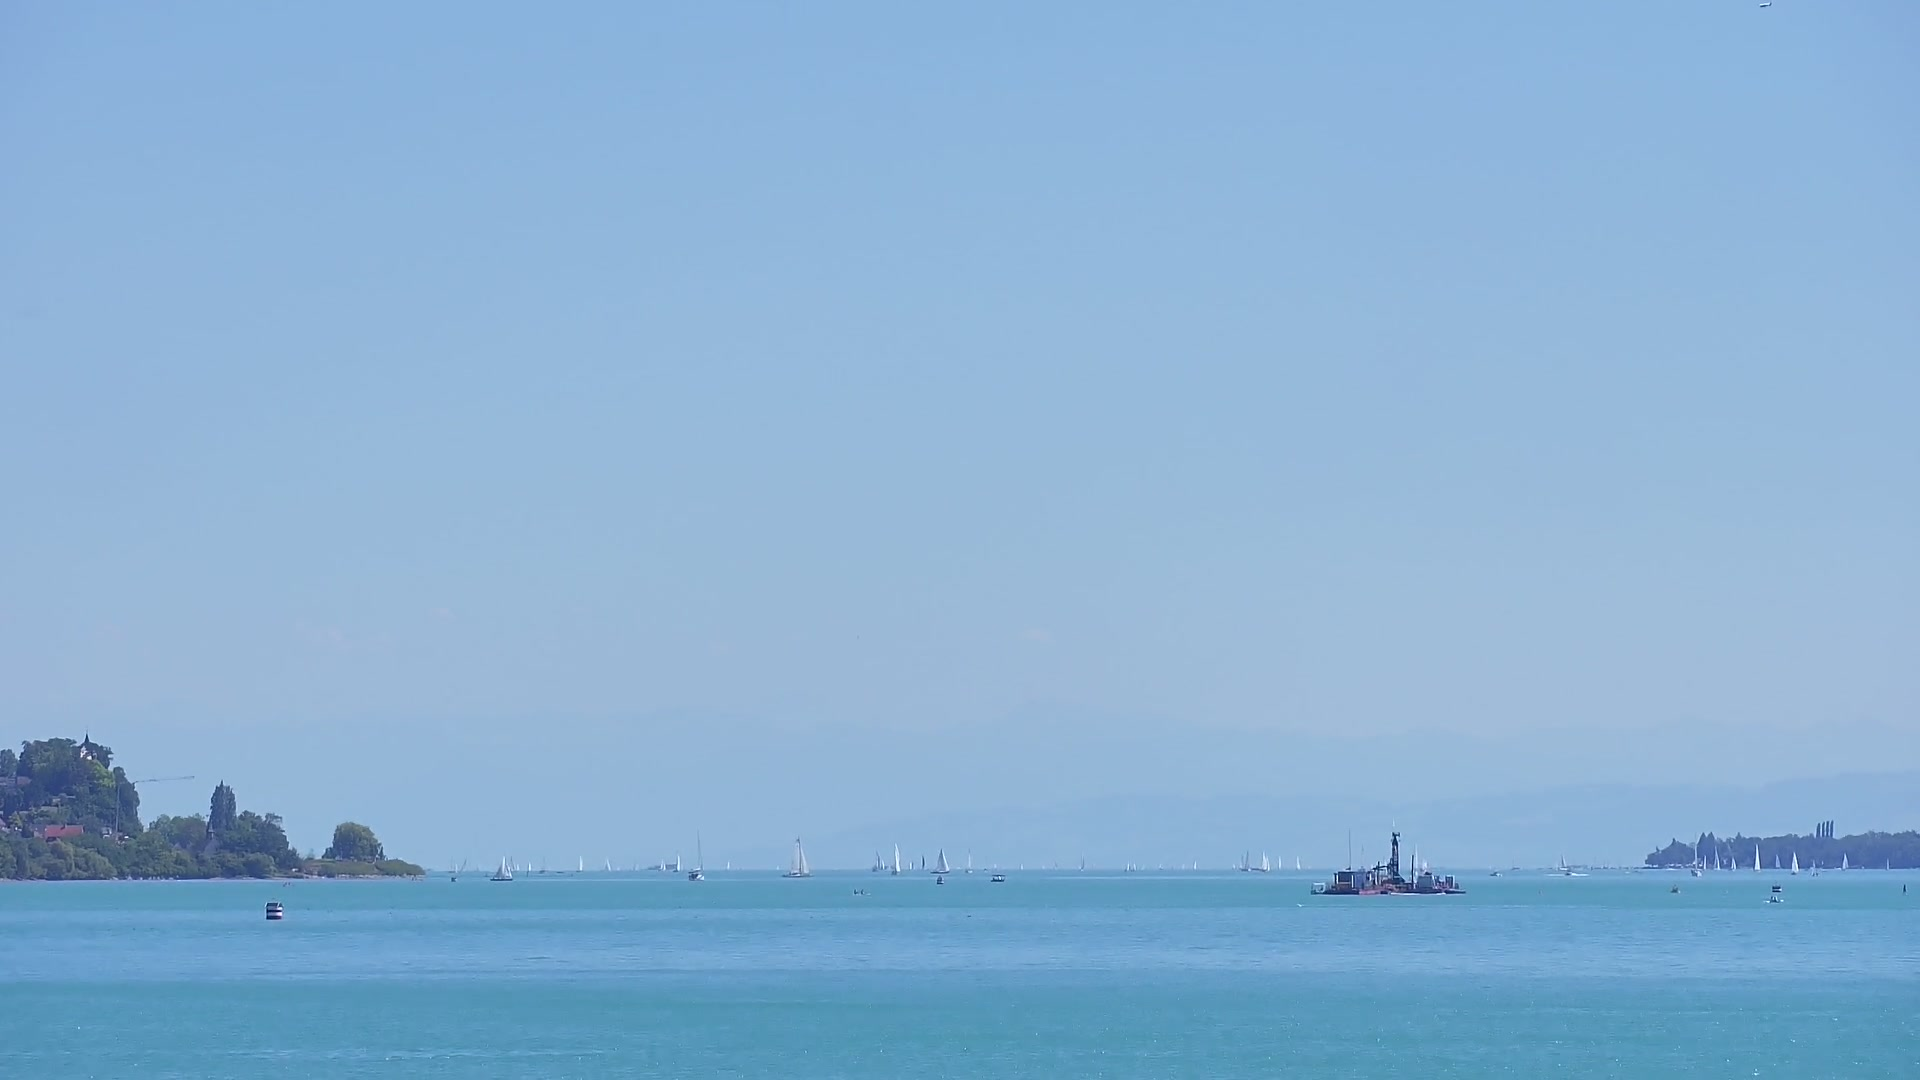sea: (782, 833, 814, 878), (688, 827, 705, 882), (930, 847, 951, 874), (1691, 832, 1702, 877), (491, 855, 512, 880), (890, 840, 901, 876), (872, 851, 887, 872), (1240, 849, 1251, 872), (1753, 843, 1760, 870), (965, 848, 973, 874), (1261, 851, 1270, 873), (1791, 851, 1799, 876), (1713, 847, 1721, 872), (538, 857, 547, 874), (853, 887, 872, 895), (1560, 855, 1569, 870), (673, 855, 680, 872), (1842, 852, 1849, 872), (1669, 881, 1680, 893), (448, 855, 455, 873), (990, 874, 1005, 882), (576, 855, 583, 872), (1295, 855, 1302, 872), (1768, 894, 1780, 903), (604, 858, 612, 872), (509, 856, 516, 872), (1729, 856, 1735, 872), (920, 855, 926, 872), (1079, 855, 1084, 872), (658, 857, 665, 870), (1775, 853, 1780, 868), (1702, 855, 1706, 872), (1489, 872, 1501, 877), (1124, 862, 1130, 872), (1884, 857, 1888, 870), (1131, 862, 1137, 872), (527, 861, 531, 872), (727, 861, 731, 872), (1193, 860, 1197, 870), (1565, 872, 1573, 877), (516, 862, 520, 872)
